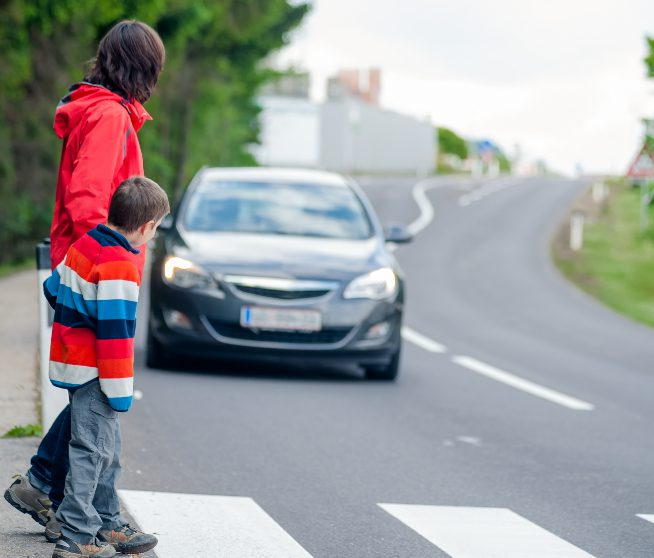Crosswalk: (130, 466, 654, 558)
